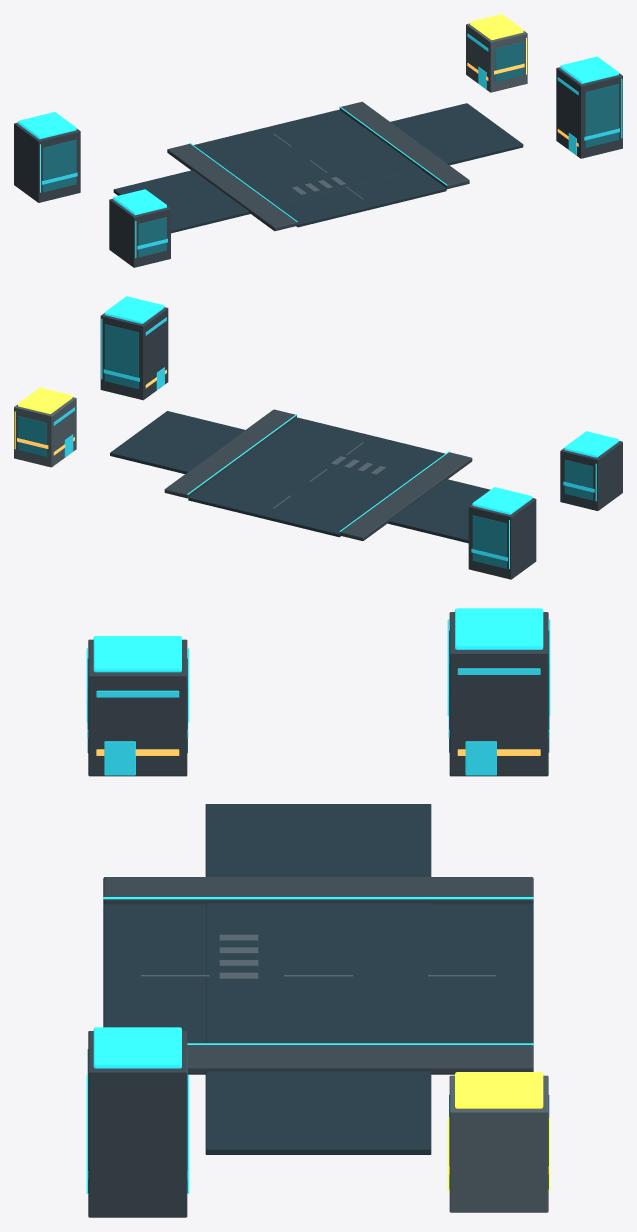
File: crossroads_lod2.glb
3 renders of one model, top to bottom at view 1: azimuth 30°, elevation 25°; view 2: azimuth 150°, elevation 25°; view 3: azimuth 270°, elevation 25°, orthographic. The views are drawn at different scales.
Parts seen in each view (by area): view 1: ND_Batch_ND_WetAsphalt, ND_Batch_ND_CityConcrete, ND_Batch_ND_RoadEdge, ND_Batch_ND_DarkGlass, ND_Batch_ND_CityCyanMuted, ND_Batch_ND_CityConcreteLight, ND_Batch_ND_NeonGlass, ND_Batch_ND_PackageGold; view 2: ND_Batch_ND_WetAsphalt, ND_Batch_ND_CityConcrete, ND_Batch_ND_RoadEdge, ND_Batch_ND_DarkGlass, ND_Batch_ND_CityCyanMuted, ND_Batch_ND_CityConcreteLight, ND_Batch_ND_NeonGlass, ND_Batch_ND_PackageGold; view 3: ND_Batch_ND_WetAsphalt, ND_Batch_ND_CityConcrete, ND_Batch_ND_RoadEdge, ND_Batch_ND_CityCyanMuted, ND_Batch_ND_CityConcreteLight, ND_Batch_ND_NeonGlass, ND_Batch_ND_PackageGold, ND_Batch_ND_DarkGlass.
Part boxes in pixels (x1=…): ND_Batch_ND_WetAsphalt: x1=113, y1=103, x2=523, y2=233; ND_Batch_ND_CityConcrete: x1=14, y1=67, x2=622, y2=267; ND_Batch_ND_RoadEdge: x1=167, y1=101, x2=469, y2=231; ND_Batch_ND_DarkGlass: x1=43, y1=42, x2=618, y2=257; ND_Batch_ND_CityCyanMuted: x1=18, y1=56, x2=622, y2=257; ND_Batch_ND_CityConcreteLight: x1=273, y1=23, x2=527, y2=199; ND_Batch_ND_NeonGlass: x1=42, y1=33, x2=619, y2=249; ND_Batch_ND_PackageGold: x1=470, y1=14, x2=526, y2=74; ND_Batch_ND_WetAsphalt: x1=110, y1=411, x2=490, y2=543; ND_Batch_ND_CityConcrete: x1=100, y1=307, x2=622, y2=579; ND_Batch_ND_RoadEdge: x1=164, y1=409, x2=472, y2=540; ND_Batch_ND_DarkGlass: x1=18, y1=324, x2=593, y2=568; ND_Batch_ND_CityCyanMuted: x1=101, y1=296, x2=618, y2=568; ND_Batch_ND_CityConcreteLight: x1=14, y1=397, x2=385, y2=508; ND_Batch_ND_NeonGlass: x1=53, y1=317, x2=594, y2=561; ND_Batch_ND_PackageGold: x1=14, y1=387, x2=72, y2=449; ND_Batch_ND_WetAsphalt: x1=103, y1=804, x2=533, y2=1154; ND_Batch_ND_CityConcrete: x1=88, y1=612, x2=548, y2=1217; ND_Batch_ND_RoadEdge: x1=103, y1=877, x2=533, y2=1074; ND_Batch_ND_CityCyanMuted: x1=86, y1=608, x2=550, y2=1193; ND_Batch_ND_CityConcreteLight: x1=140, y1=934, x2=548, y2=1212; ND_Batch_ND_NeonGlass: x1=87, y1=668, x2=549, y2=1178; ND_Batch_ND_PackageGold: x1=447, y1=1072, x2=550, y2=1191; ND_Batch_ND_DarkGlass: x1=87, y1=630, x2=549, y2=1192.
Size of the model in its own units: 53.1 by 8.15 by 21.58.
